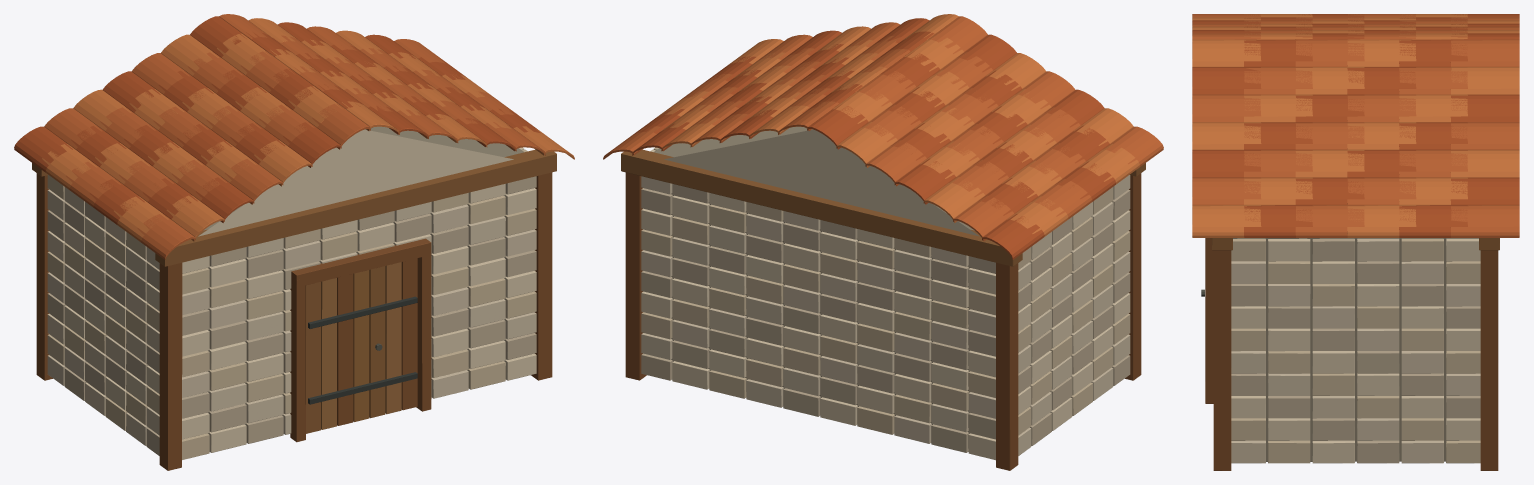
File: estate_storage_shed.glb
3 views of the same model, side by side, from view 1: azimuth 30°, elevation 25°; view 2: azimuth 150°, elevation 25°; view 3: azimuth 270°, elevation 25° (orthographic). The views are drawn at different scales.
Visible parts, largest first — view 1: estate_storage_shed.001; view 2: estate_storage_shed.001; view 3: estate_storage_shed.001.
Part boxes in pixels (<box>): estate_storage_shed.001: <box>14,14,574,470</box>; estate_storage_shed.001: <box>603,14,1163,470</box>; estate_storage_shed.001: <box>1192,14,1519,470</box>.
Size of the model in its own units: 6.53 by 4.65 by 4.17.
